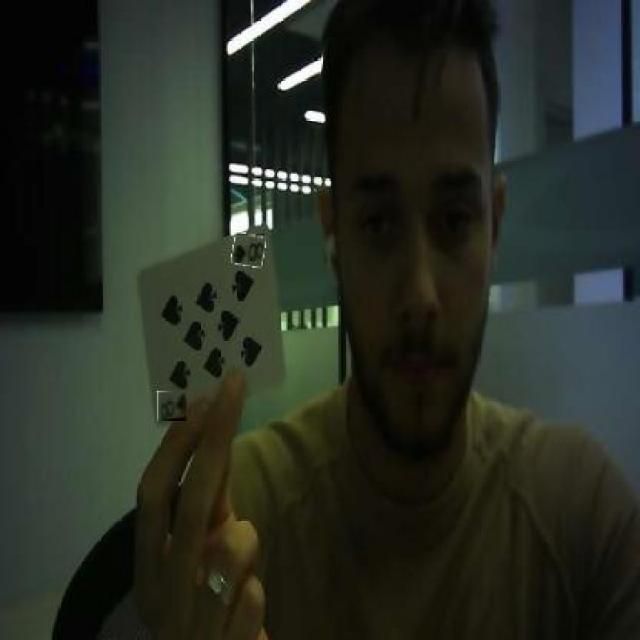8S: (232, 234, 265, 266), (157, 391, 186, 420)
